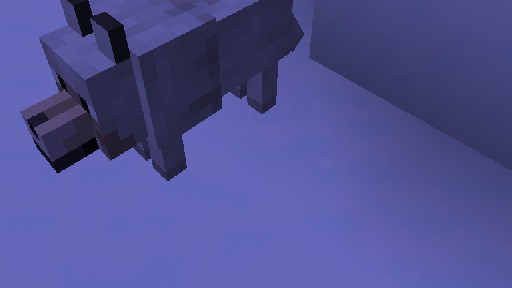wolf: (19, 0, 304, 198)
